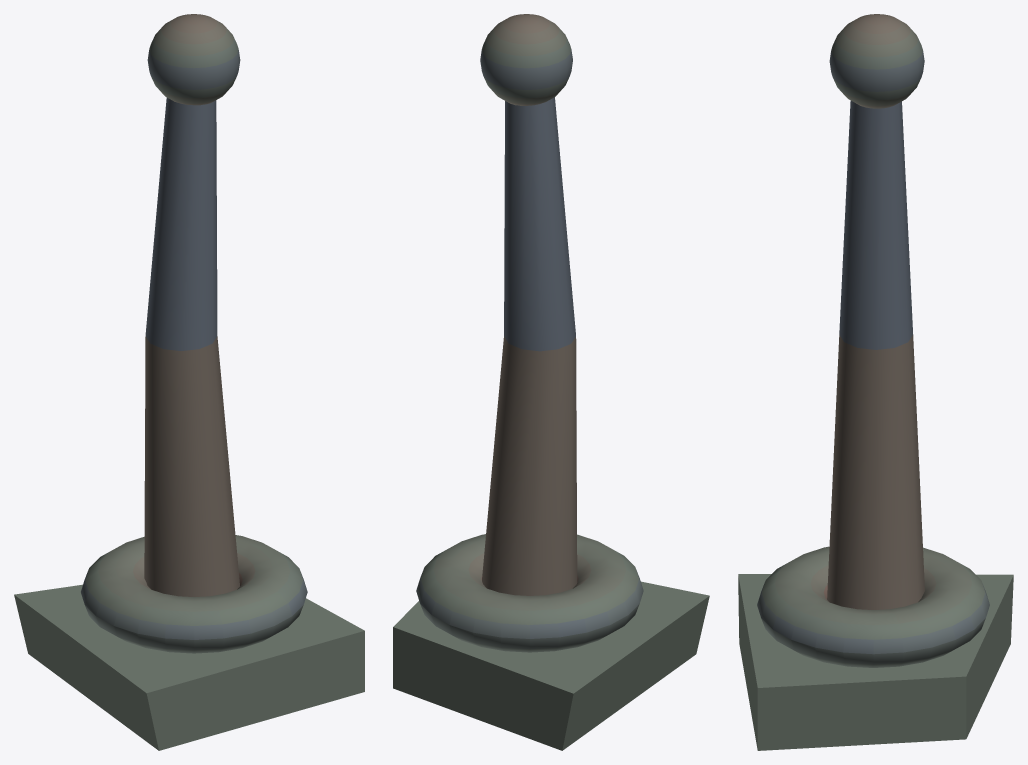
Rendered from LifeCounter.fbx.
The picture shows the model from 3 angles, left to right: view 1: azimuth 30°, elevation 25°; view 2: azimuth 150°, elevation 25°; view 3: azimuth 270°, elevation 25°; orthographic projection. The views are drawn at different scales.
Visible parts, largest first — view 1: DonutBase, Donut; view 2: DonutBase, Donut; view 3: DonutBase, Donut.
Boxes of the visible parts, x1=… form: DonutBase: x1=14, y1=14, x2=364, y2=750; Donut: x1=81, y1=535, x2=307, y2=653; DonutBase: x1=393, y1=14, x2=709, y2=750; Donut: x1=416, y1=534, x2=643, y2=652; DonutBase: x1=738, y1=14, x2=1013, y2=750; Donut: x1=757, y1=546, x2=989, y2=667.
Size of the model in its own units: 299 by 826 by 305.
